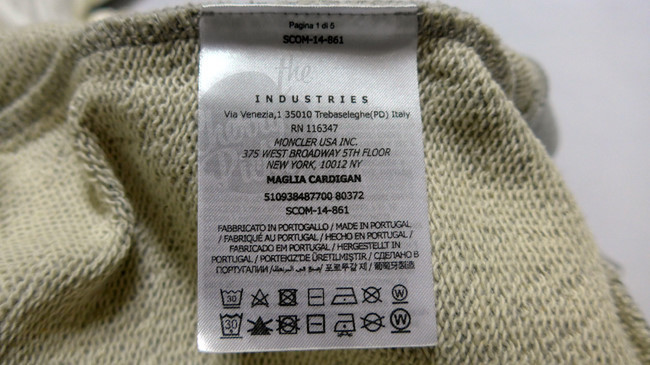ER_flat_dry: (306, 284, 327, 310), (306, 312, 327, 337)
ER_iron_low_temp: (332, 310, 359, 337), (330, 285, 359, 308)
ER_no_bleach: (248, 314, 273, 339), (248, 286, 270, 308)
ER_no_dry_clean: (360, 309, 384, 335), (360, 285, 383, 307)
ER_no_tumble_dry: (277, 285, 299, 311), (276, 313, 300, 336)
ER_wash_30_mild: (217, 312, 245, 339), (219, 285, 245, 310)
